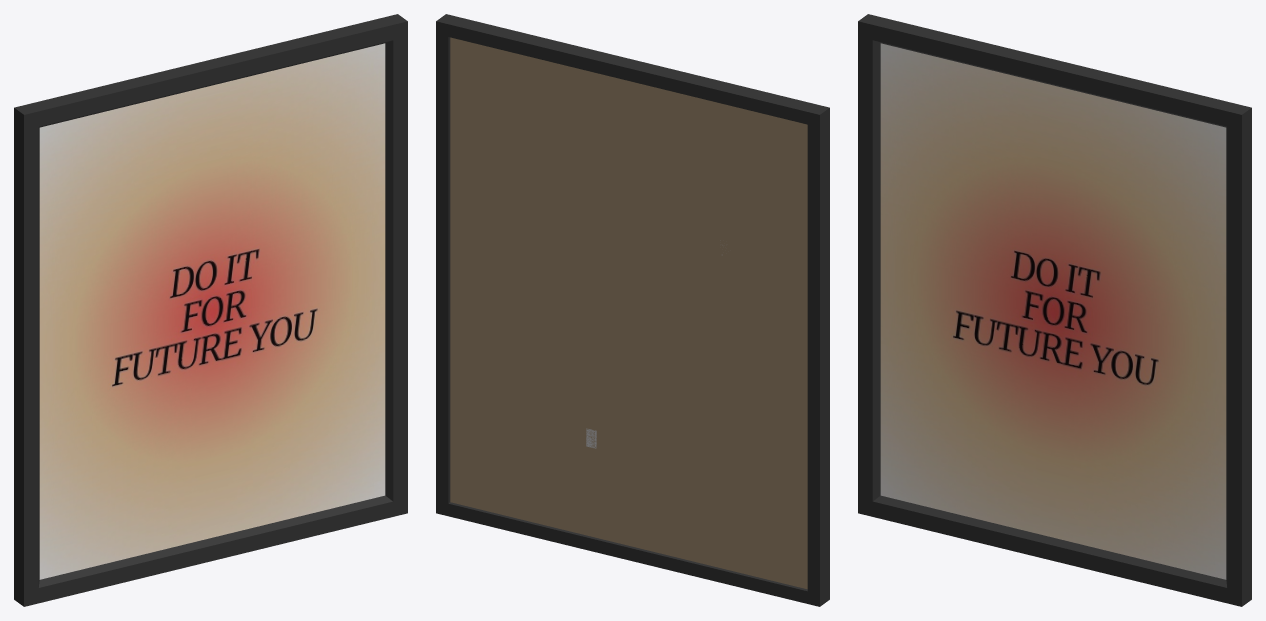
The model's file is worthy-of-good-40x50.glb.
3 views of the same model, side by side, from view 1: azimuth 30°, elevation 25°; view 2: azimuth 150°, elevation 25°; view 3: azimuth 330°, elevation 25° (orthographic).
Visible parts, largest first — view 1: LAWHA 40x50; view 2: LAWHA 40x50; view 3: LAWHA 40x50.
Boxes of the visible parts, box(x1,y1,x2,y2) form: LAWHA 40x50: box(14, 14, 407, 606); LAWHA 40x50: box(436, 14, 829, 606); LAWHA 40x50: box(858, 14, 1251, 606).
Bounding box in the file's own units: 0.444 × 0.544 × 0.02.
Materials: 4 (1 with a texture image).
